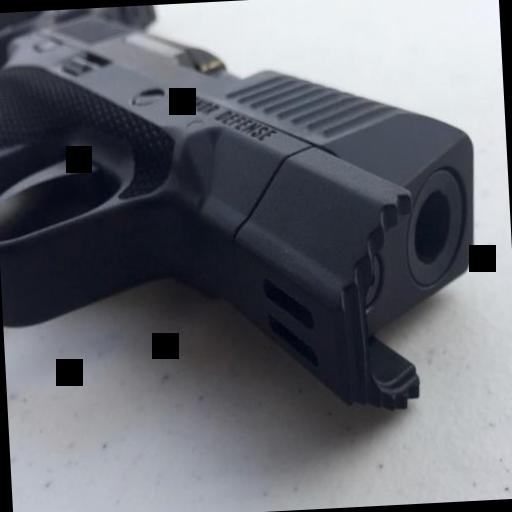Handgun: (0, 0, 481, 445)
